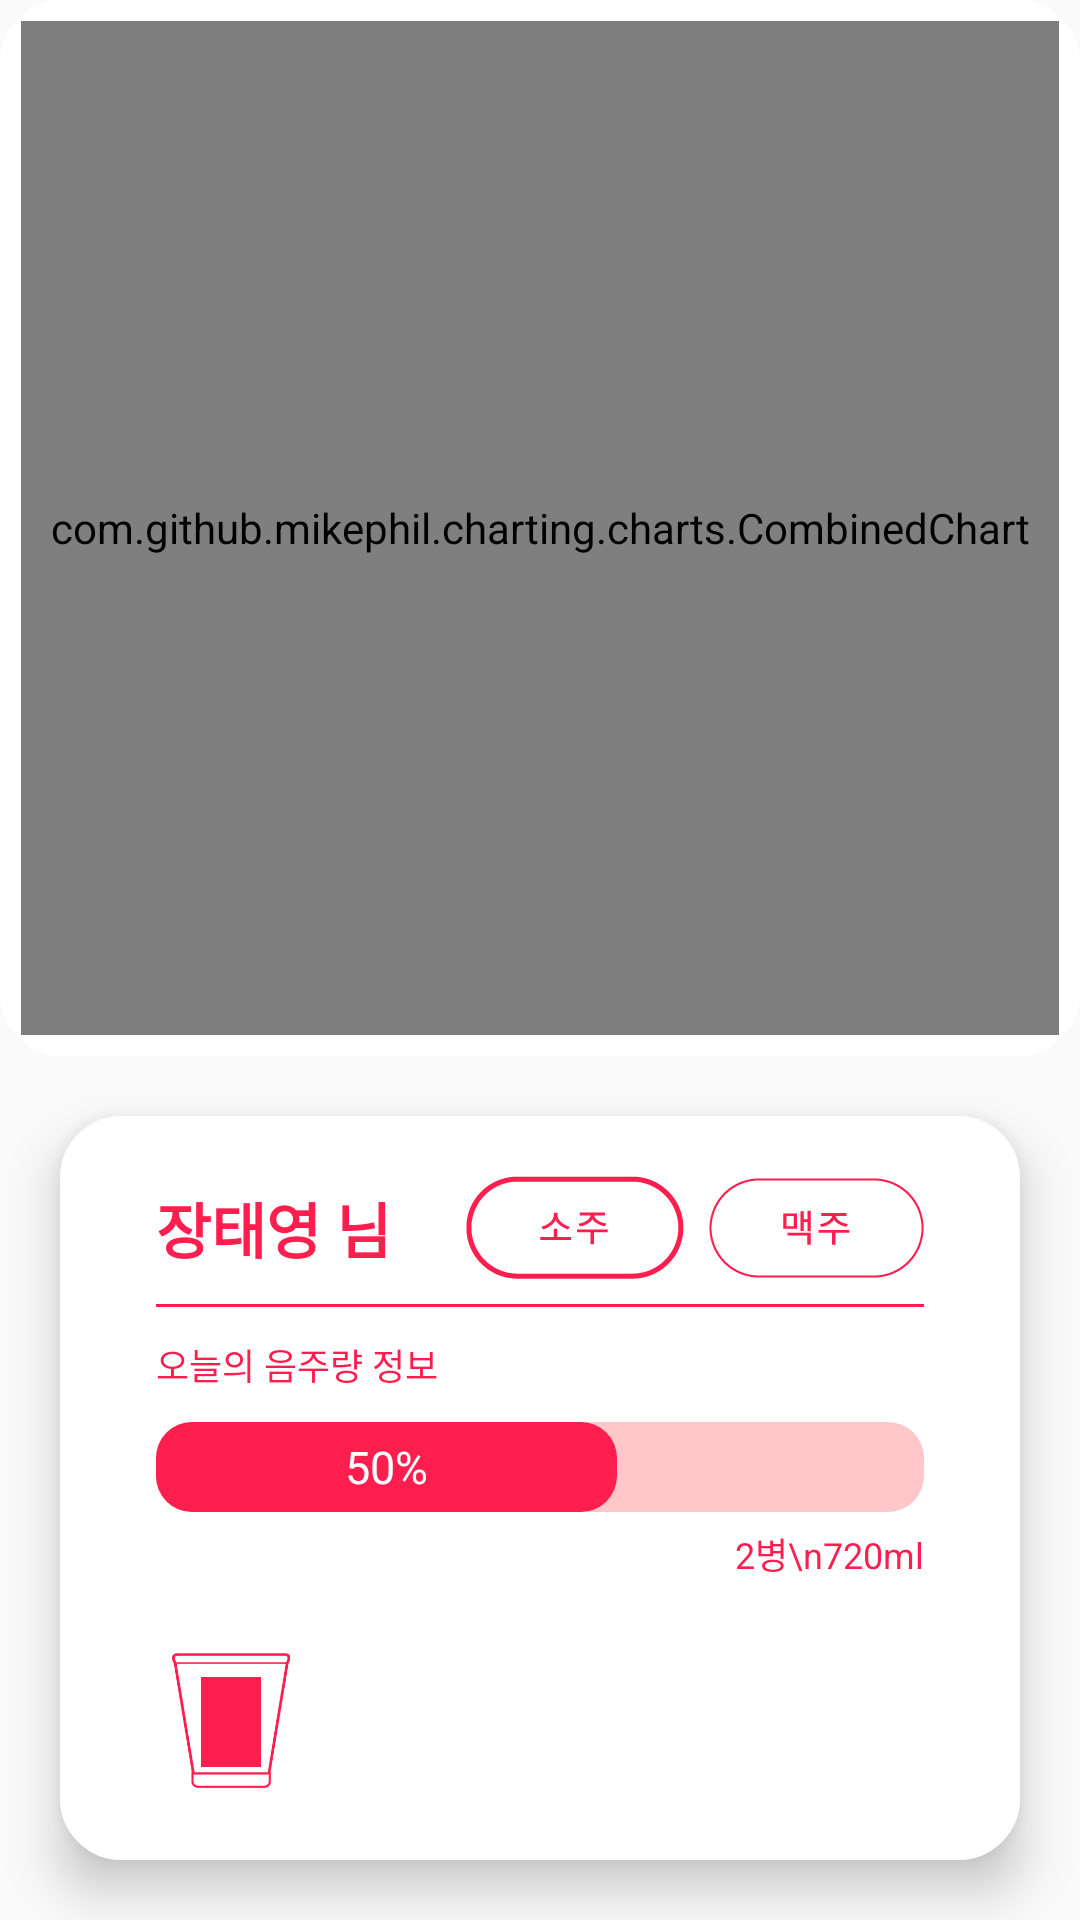

Icon click points for this 1080 x 1920 phone screenshot, format (x,y):
cupicon: (231,1720)
